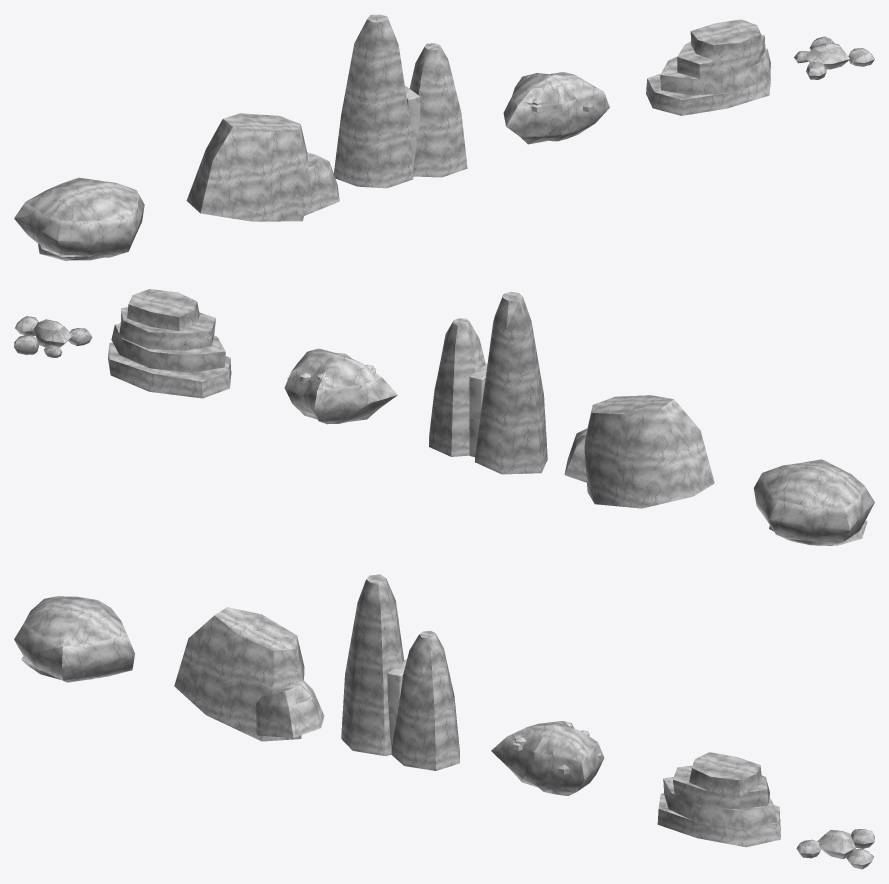
3 views of the same model, one above another, from view 1: azimuth 30°, elevation 25°; view 2: azimuth 150°, elevation 25°; view 3: azimuth 330°, elevation 25° (orthographic). The views are drawn at different scales.
Visible parts, largest first — view 1: DL008_SeafloorRockKit_stone_blue, DL008_SeafloorRockKit_stone_warm, DL008_SeafloorRockKit_sediment, DL008_SeafloorRockKit_shadow_blue; view 2: DL008_SeafloorRockKit_stone_blue, DL008_SeafloorRockKit_stone_warm, DL008_SeafloorRockKit_sediment, DL008_SeafloorRockKit_shadow_blue; view 3: DL008_SeafloorRockKit_stone_blue, DL008_SeafloorRockKit_stone_warm, DL008_SeafloorRockKit_sediment, DL008_SeafloorRockKit_shadow_blue.
Part boxes in pixels (x1,y1,x2,y2): DL008_SeafloorRockKit_stone_blue: [14, 14, 849, 257]; DL008_SeafloorRockKit_stone_warm: [295, 34, 874, 216]; DL008_SeafloorRockKit_sediment: [38, 48, 808, 260]; DL008_SeafloorRockKit_shadow_blue: [404, 73, 593, 169]; DL008_SeafloorRockKit_stone_blue: [33, 289, 874, 545]; DL008_SeafloorRockKit_stone_warm: [14, 307, 587, 482]; DL008_SeafloorRockKit_sediment: [44, 323, 867, 545]; DL008_SeafloorRockKit_shadow_blue: [287, 363, 487, 457]; DL008_SeafloorRockKit_stone_blue: [14, 574, 855, 858]; DL008_SeafloorRockKit_stone_warm: [256, 680, 874, 869]; DL008_SeafloorRockKit_sediment: [21, 656, 777, 829]; DL008_SeafloorRockKit_shadow_blue: [387, 659, 601, 774].
Size of the model in its own units: 22.29 by 4.41 by 2.65.
Materials: 4 (4 with a texture image).
